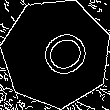O_SW: (23, 22, 89, 85)
